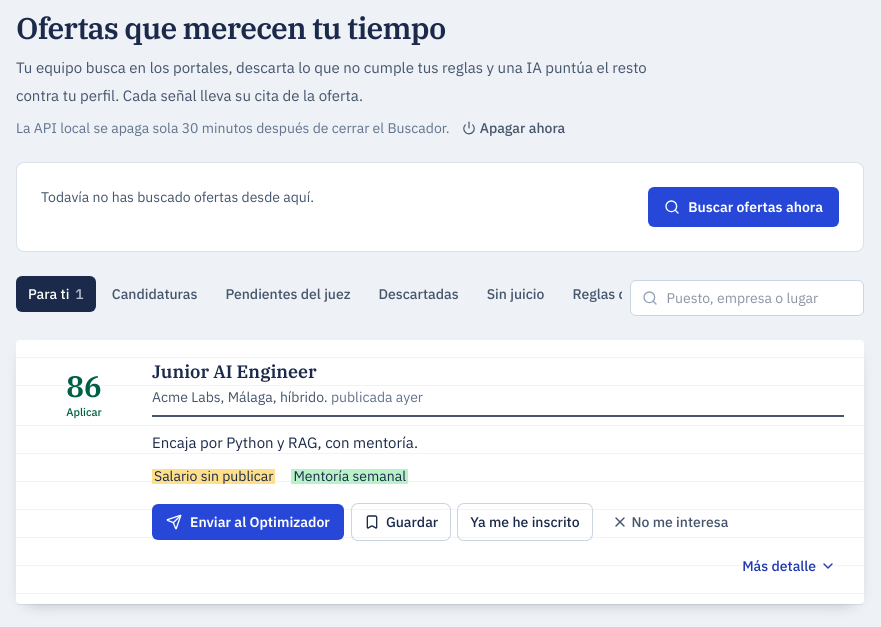
Test: HunterView › "Apagar ahora" apaga la API local
Check: the text "se apaga sola 30 minutos después" is shown, box left=16, top=119, right=450, bottom=137
Click the button "Apagar ahora". click: (513,128)
box: left=462, top=118, right=565, bottom=138
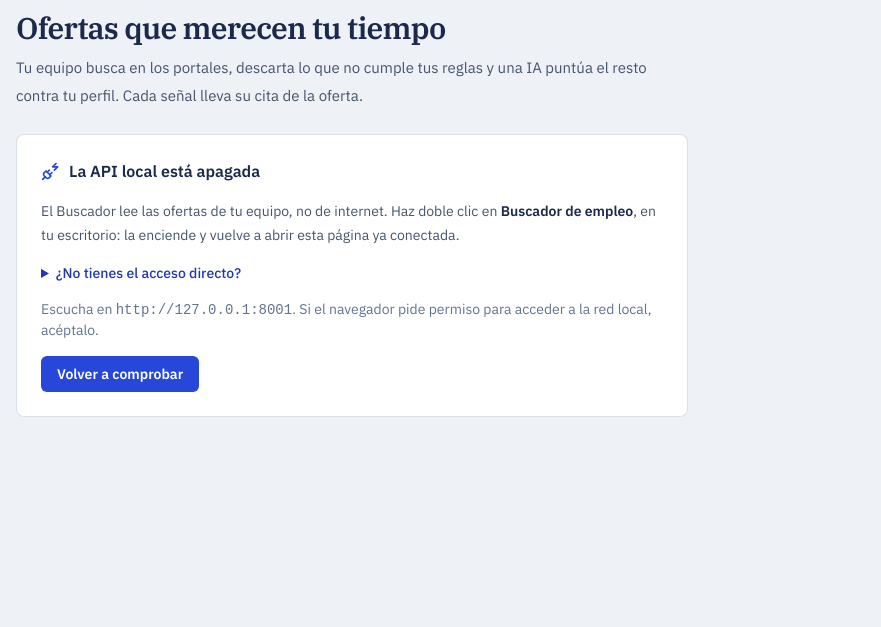
Check: the heading "La API local está apagada" is shown, box left=41, top=161, right=260, bottom=181
